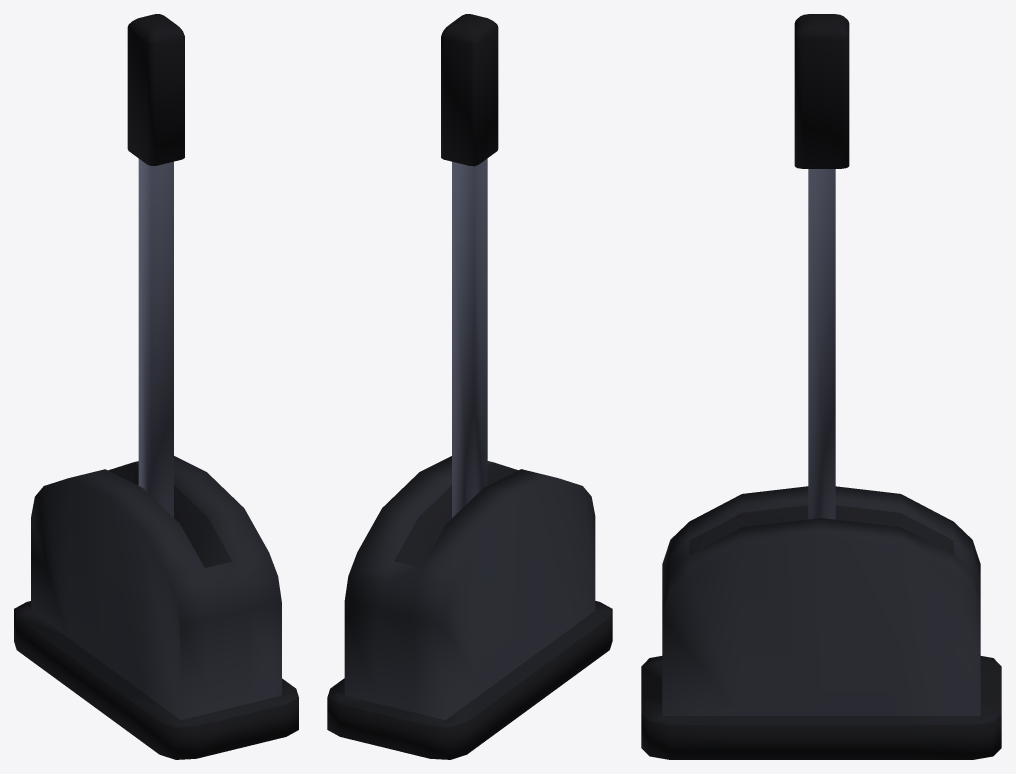
The model's file is PROP_Lever.fbx.
3 renders of one model, left to right at view 1: azimuth 30°, elevation 25°; view 2: azimuth 150°, elevation 25°; view 3: azimuth 270°, elevation 25°, orthographic. The views are drawn at different scales.
Parts seen in each view (by area): view 1: LeverBase, Lever; view 2: LeverBase, Lever; view 3: LeverBase, Lever.
Part boxes in pixels (x1,y1,x2,y2): LeverBase: (14,456,298,759); Lever: (127,14,184,517); LeverBase: (327,456,612,759); Lever: (441,14,498,517); LeverBase: (641,486,1001,759); Lever: (794,14,849,519).
Size of the model in its own units: 0.1741 by 0.808 by 0.3743.
